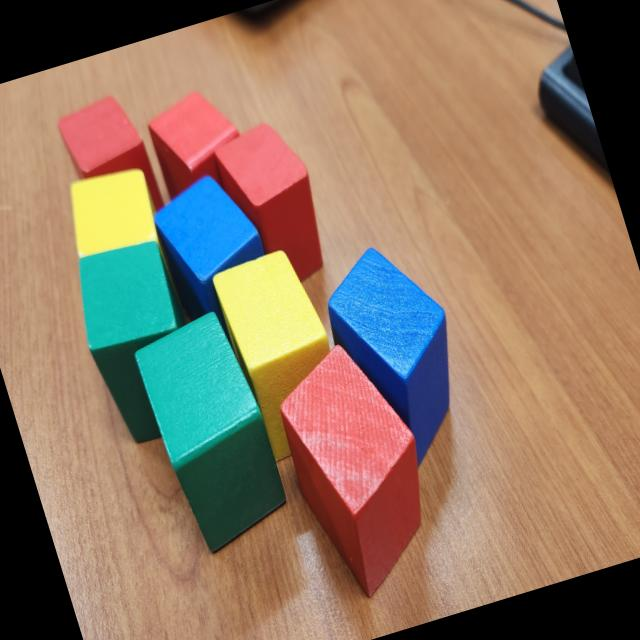blue: (312, 230, 488, 482), (145, 164, 283, 330)
green: (128, 304, 298, 558), (61, 232, 222, 450)
red: (259, 330, 455, 609), (204, 114, 340, 298), (53, 88, 167, 234), (140, 80, 254, 208)
yellow: (209, 244, 360, 466), (57, 160, 164, 263)
